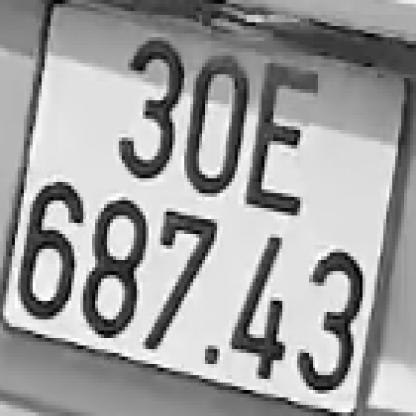0: (187, 56, 244, 193)
3: (119, 41, 184, 182)
4: (229, 230, 285, 372)
6: (18, 178, 80, 312)
E: (250, 63, 318, 216)
